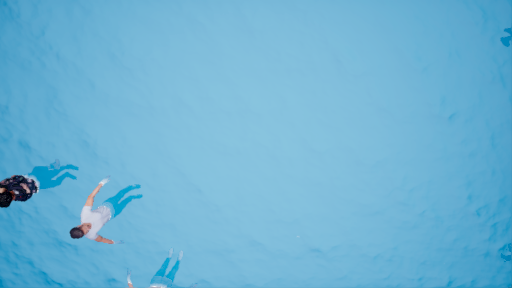person: (74, 166, 144, 248), (1, 150, 78, 210), (121, 251, 199, 288)
